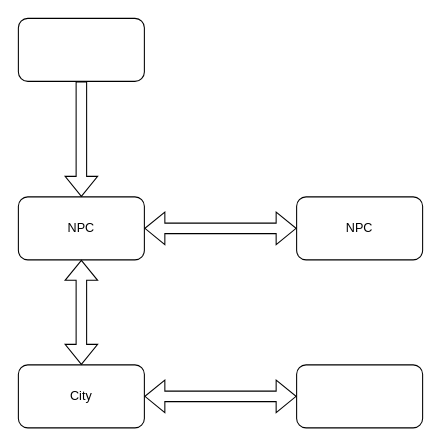
Some shapes in this 441 by 446 pixel diagram are drawn without their labels. Each missing label, with the centre of its shape:
"GridNode" belongs at point (359, 396).
"Player" belongs at point (80, 49).
